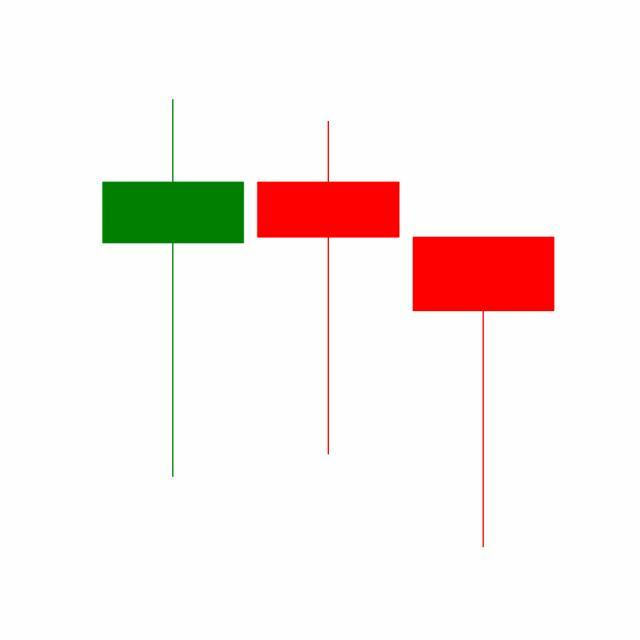Spinning Top: (250, 118, 407, 459)
